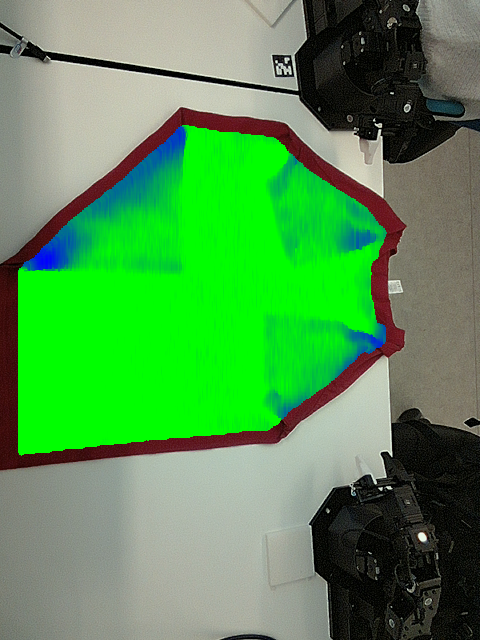V: (136, 227, 200, 288), (250, 297, 303, 340), (277, 230, 323, 274)
